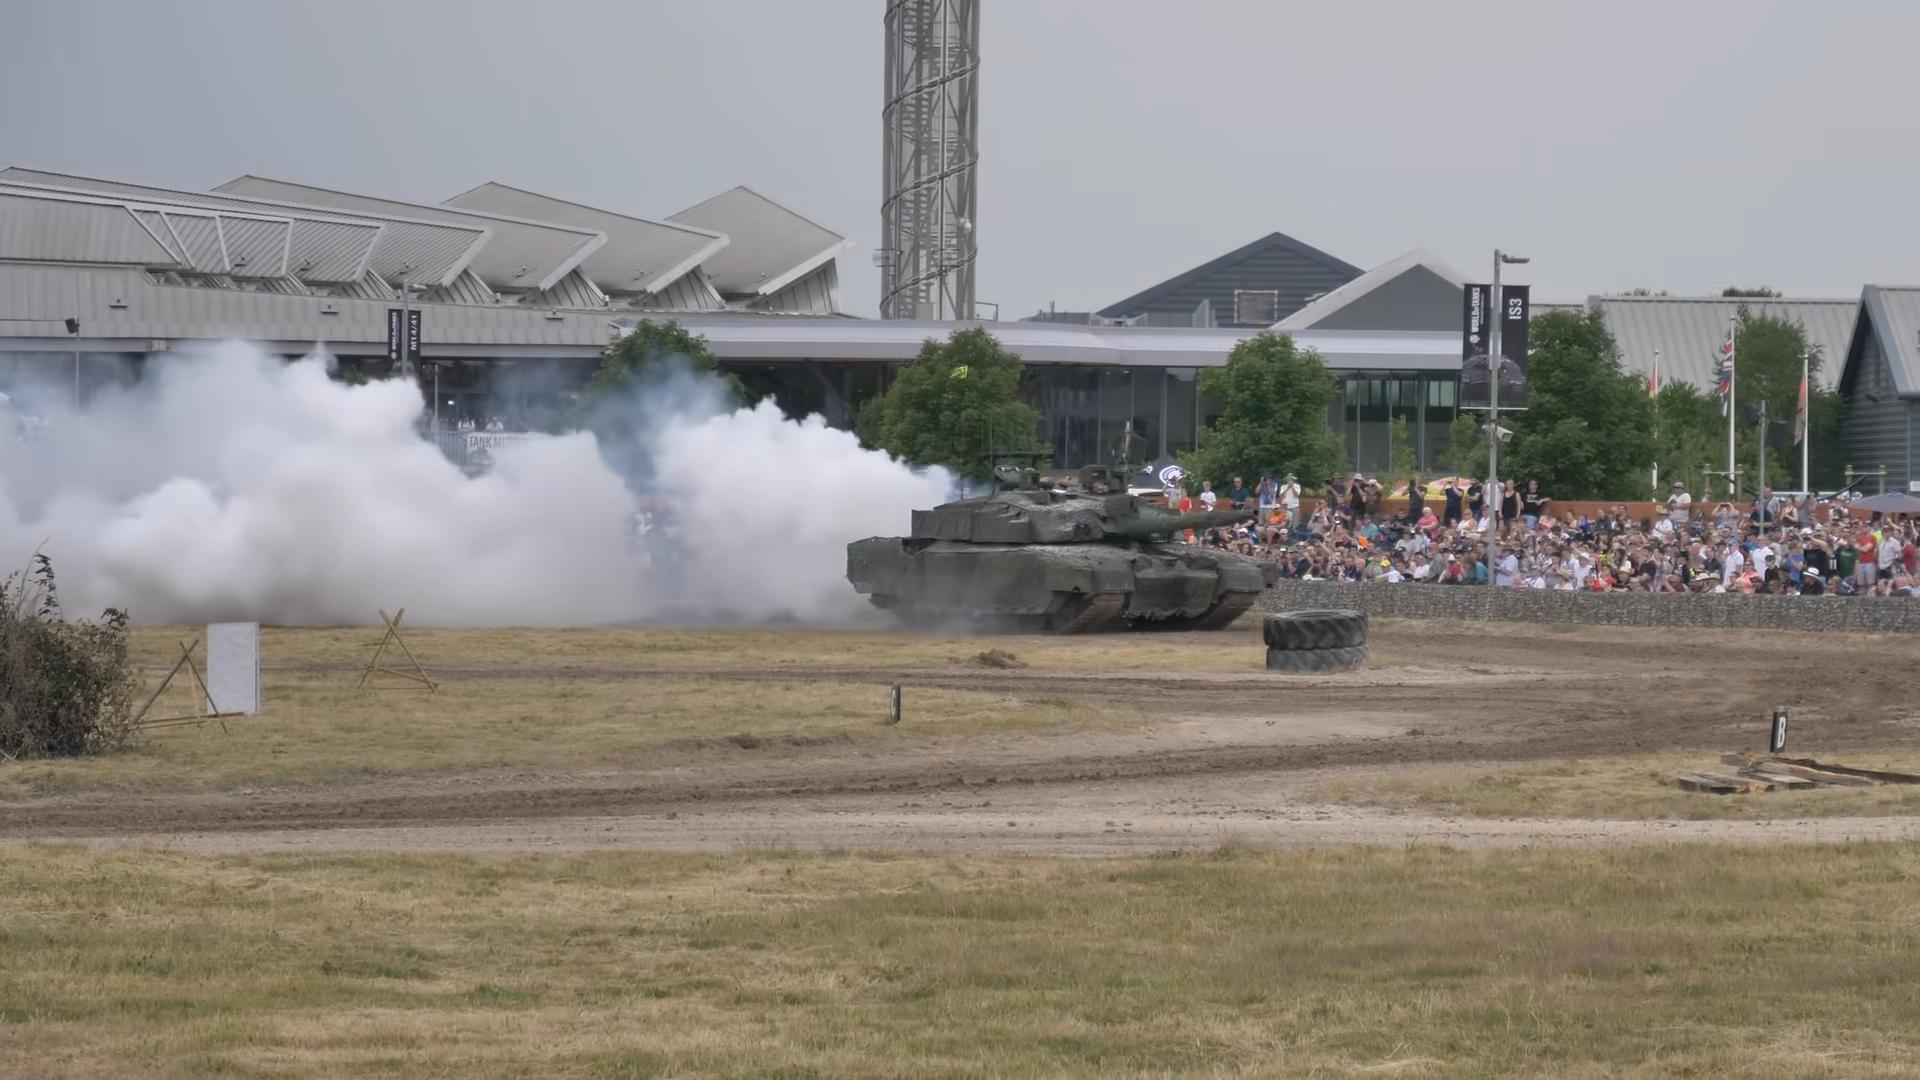tank: (845, 464, 1271, 636)
